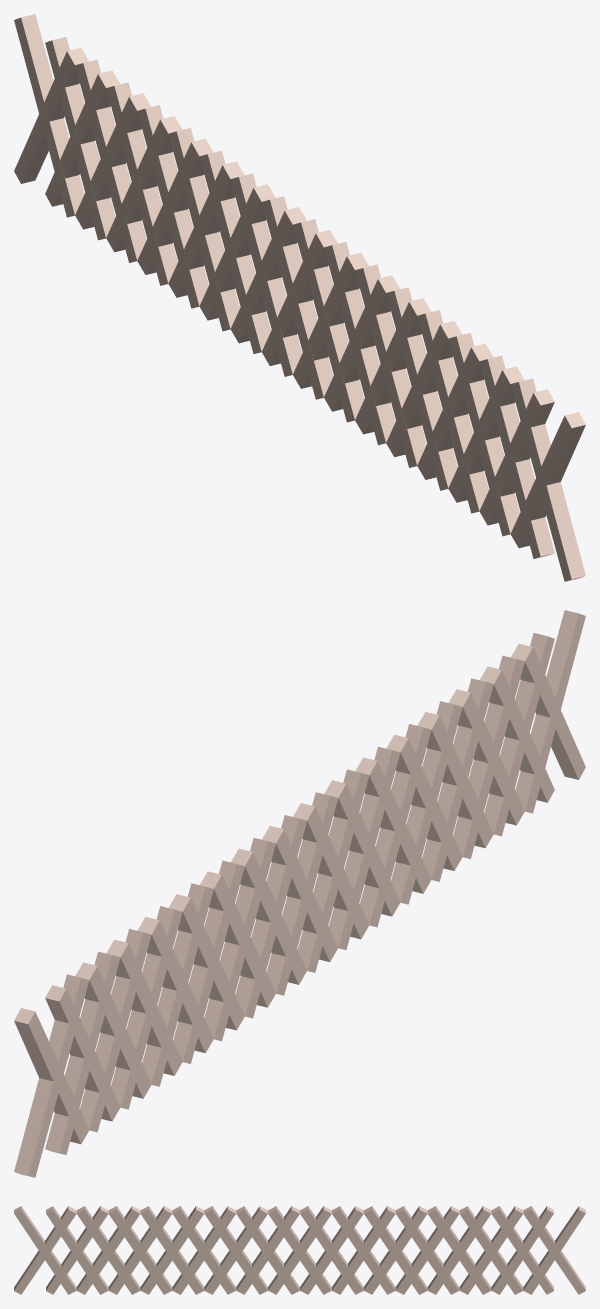
File: towerWindowGrid.fbx
3 views of the same model, one above another, from view 1: azimuth 30°, elevation 25°; view 2: azimuth 150°, elevation 25°; view 3: azimuth 270°, elevation 25° (orthographic). The views are drawn at different scales.
Visible parts, largest first — view 1: towerWindowGrid; view 2: towerWindowGrid; view 3: towerWindowGrid.
Part boxes in pixels (x1,y1,x2,y2): towerWindowGrid: [14, 14, 585, 581]; towerWindowGrid: [14, 610, 585, 1177]; towerWindowGrid: [14, 1206, 585, 1294].
Size of the model in its own units: 4.08 by 272 by 44.86.
